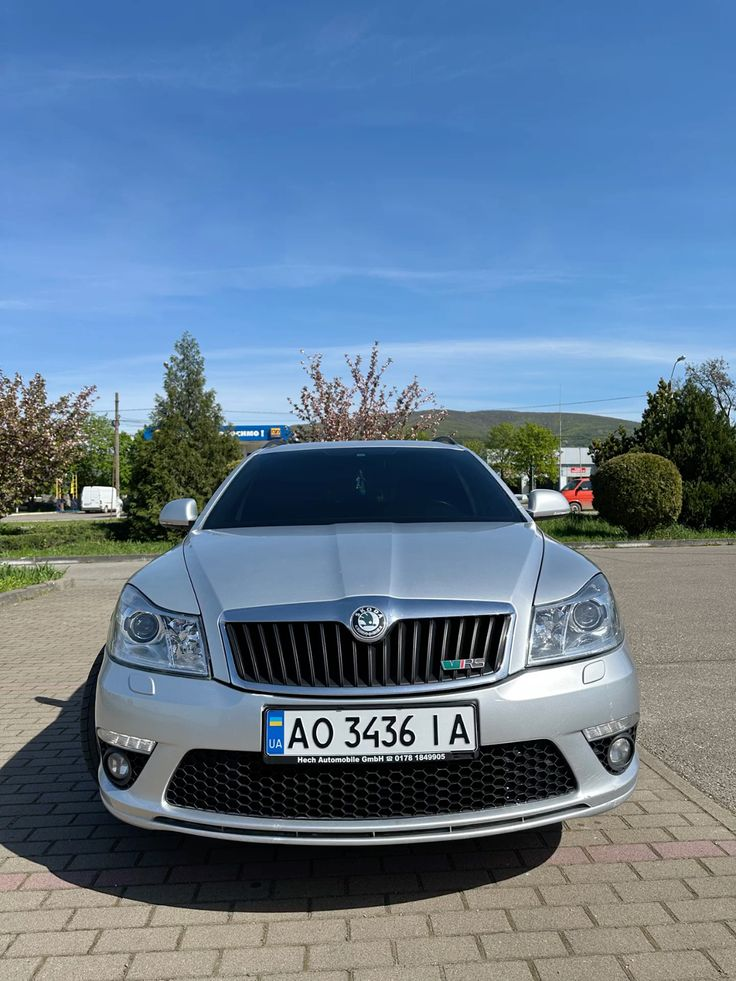plate: (262, 702, 475, 765)
